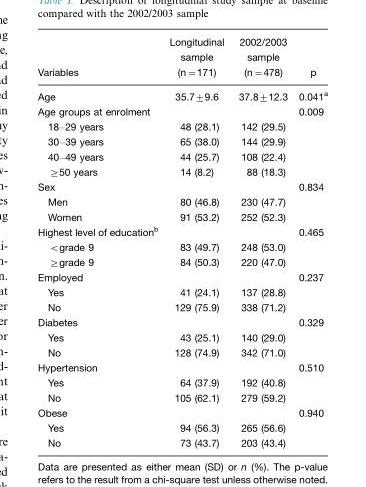table: (37, 36, 327, 447)
table column: (37, 36, 163, 447), (163, 36, 230, 447), (230, 36, 292, 447), (292, 36, 327, 447)
table column header: (37, 36, 327, 83)
table row: (37, 36, 327, 83), (37, 83, 327, 104), (37, 148, 327, 164), (37, 223, 327, 239), (37, 254, 327, 270), (37, 329, 327, 345), (37, 118, 327, 133), (37, 133, 327, 148), (37, 164, 327, 179), (37, 179, 327, 194), (37, 194, 327, 209), (37, 239, 327, 254), (37, 284, 327, 299), (37, 299, 327, 314), (37, 314, 327, 329), (37, 345, 327, 360), (37, 360, 327, 375), (37, 375, 327, 390), (37, 390, 327, 405), (37, 405, 327, 420), (37, 420, 327, 435), (37, 104, 327, 118), (37, 209, 327, 223), (37, 270, 327, 284), (37, 435, 327, 447)
